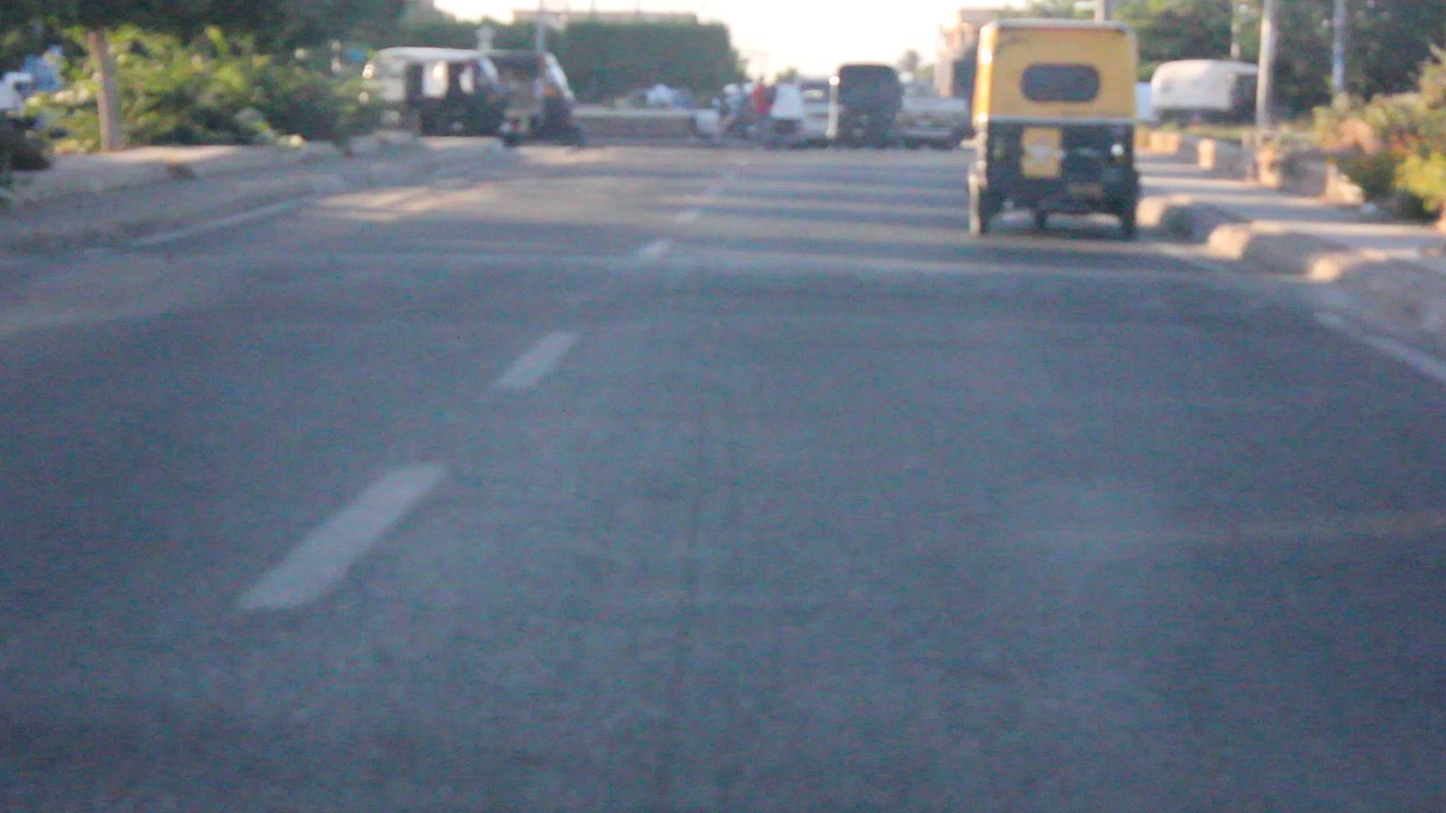Bump: (21, 251, 1377, 326)
